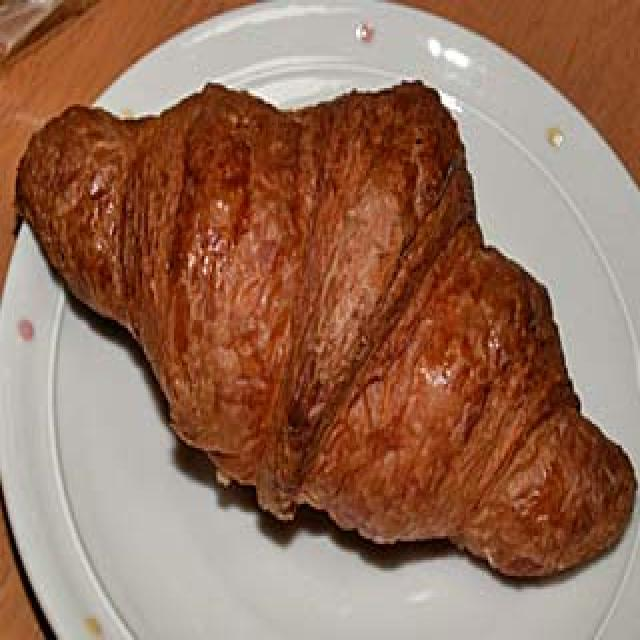面包点心: (0, 64, 640, 587)
